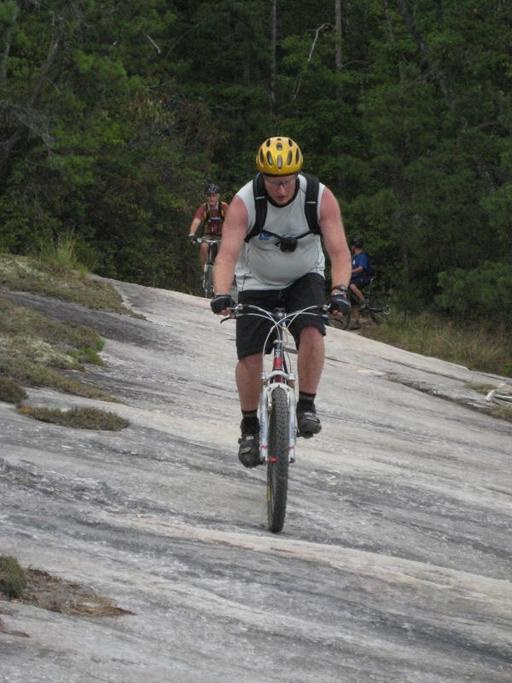non-vehicle: (219, 302, 341, 532), (329, 273, 398, 329), (191, 235, 221, 298)
